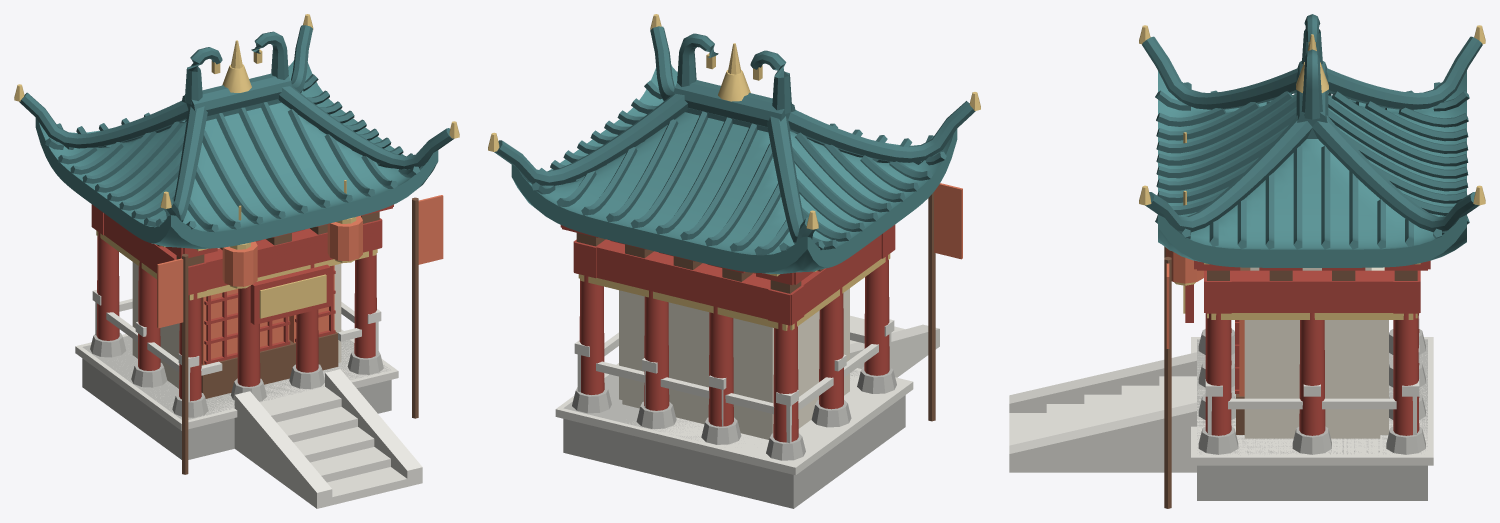
The model's file is SonMon_mission.fbx.
The picture shows the model from 3 angles, left to right: view 1: azimuth 30°, elevation 25°; view 2: azimuth 150°, elevation 25°; view 3: azimuth 270°, elevation 25°; orthographic projection. The views are drawn at different scales.
Parts seen in each view (by area): view 1: mission; view 2: mission; view 3: mission.
Boxes of the visible parts, x1,y1,x2,y2 form: mission: (14, 14, 459, 508); mission: (488, 14, 980, 508); mission: (1009, 14, 1485, 508).
Size of the model in its own units: 2.73 by 3.12 by 3.3.
